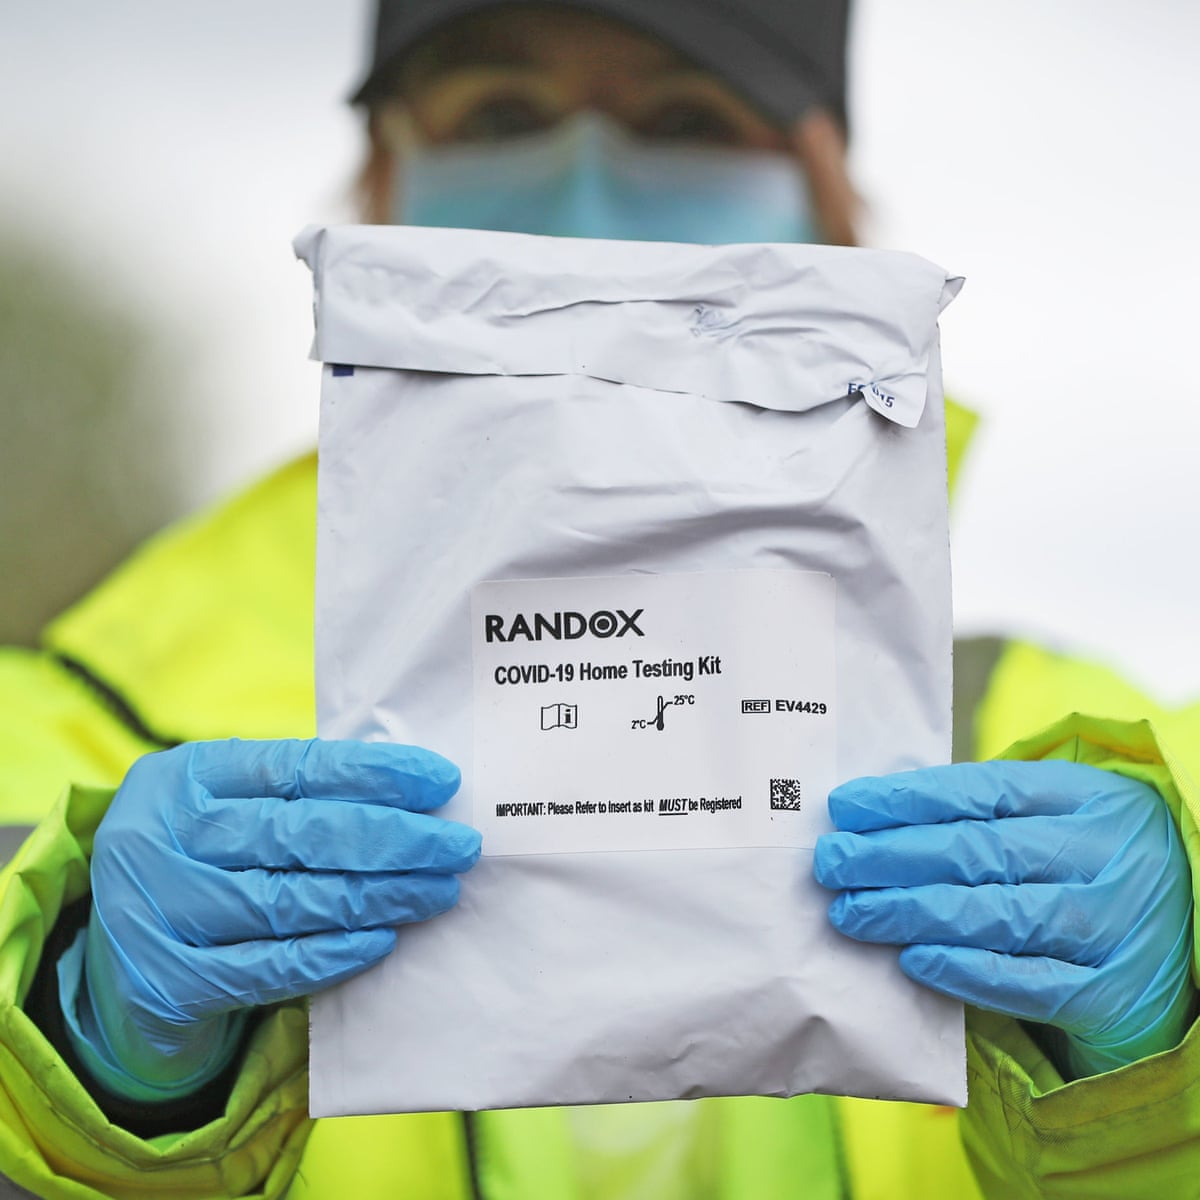Gloves: (73, 719, 480, 1104), (808, 749, 1195, 1082)
